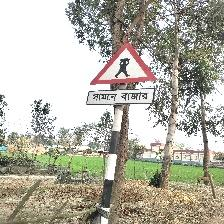Market-in-front: (87, 41, 157, 107)
